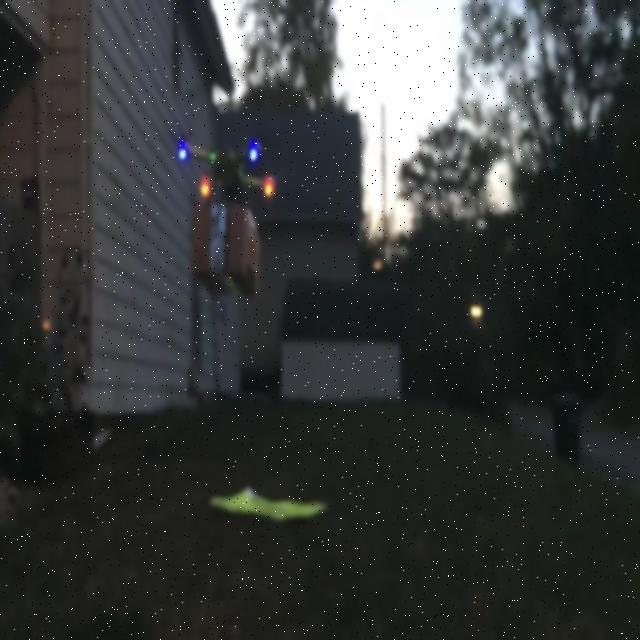UAV: (177, 138, 277, 298)
